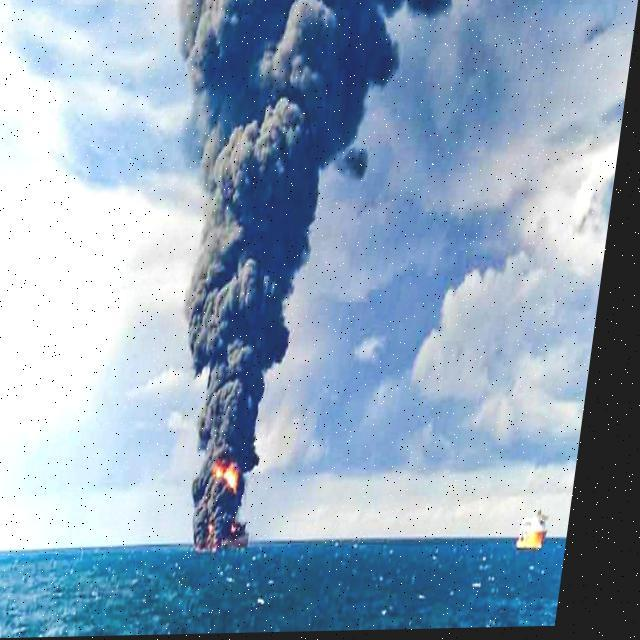Fire: (223, 461, 256, 494), (532, 534, 560, 553)
